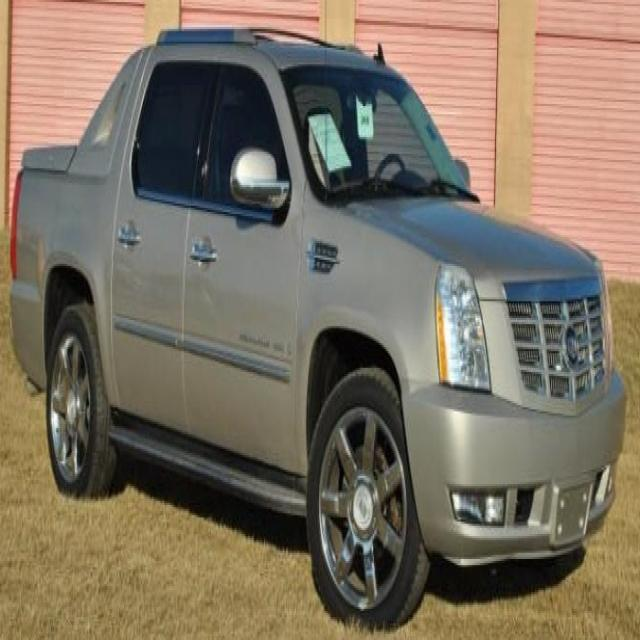CMT: (11, 24, 611, 588)
